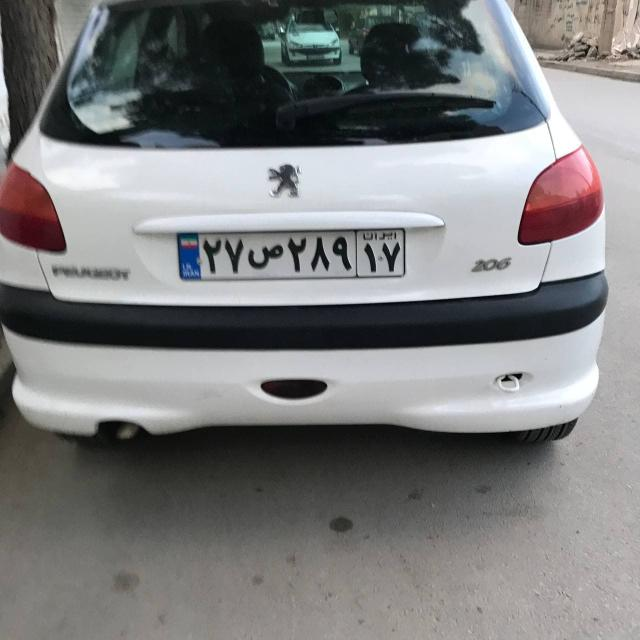Plates: (177, 228, 405, 281)
